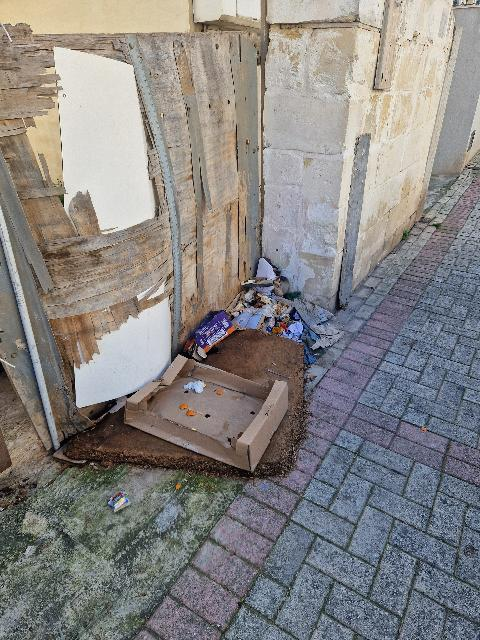Other: (124, 355, 288, 471), (226, 258, 341, 363), (194, 311, 234, 359), (108, 491, 130, 512)
